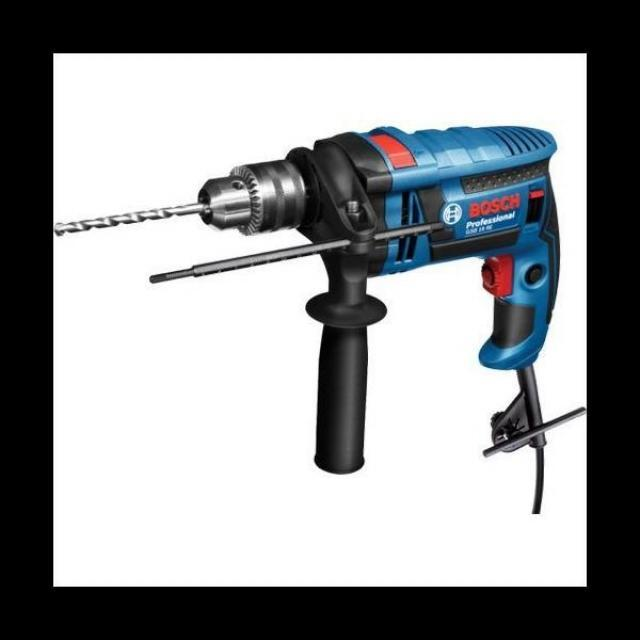drill: (53, 125, 560, 477)
